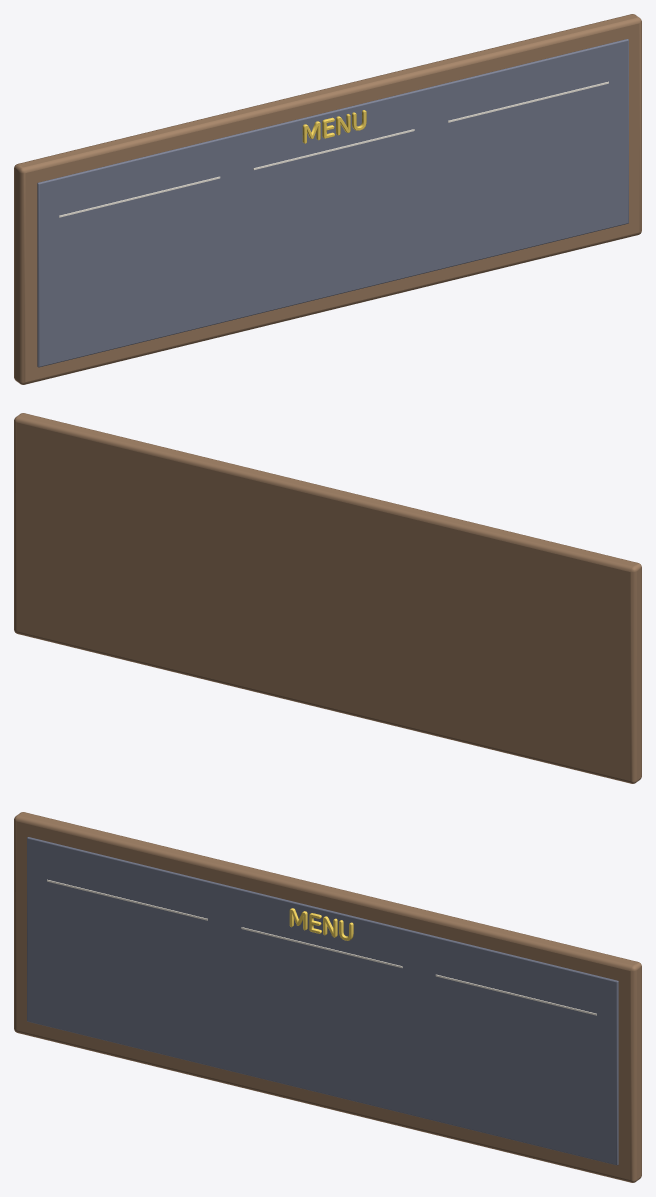
The model's file is MenuBoard.fbx.
3 renders of one model, top to bottom at view 1: azimuth 30°, elevation 25°; view 2: azimuth 150°, elevation 25°; view 3: azimuth 330°, elevation 25°, orthographic.
Parts seen in each view (by area): view 1: MenuBoard; view 2: MenuBoard; view 3: MenuBoard.
Part boxes in pixels (x1=…): MenuBoard: x1=14, y1=14, x2=641, y2=384; MenuBoard: x1=14, y1=413, x2=641, y2=783; MenuBoard: x1=14, y1=812, x2=641, y2=1182.
Size of the model in its own units: 2.4 by 0.8 by 0.0798.
